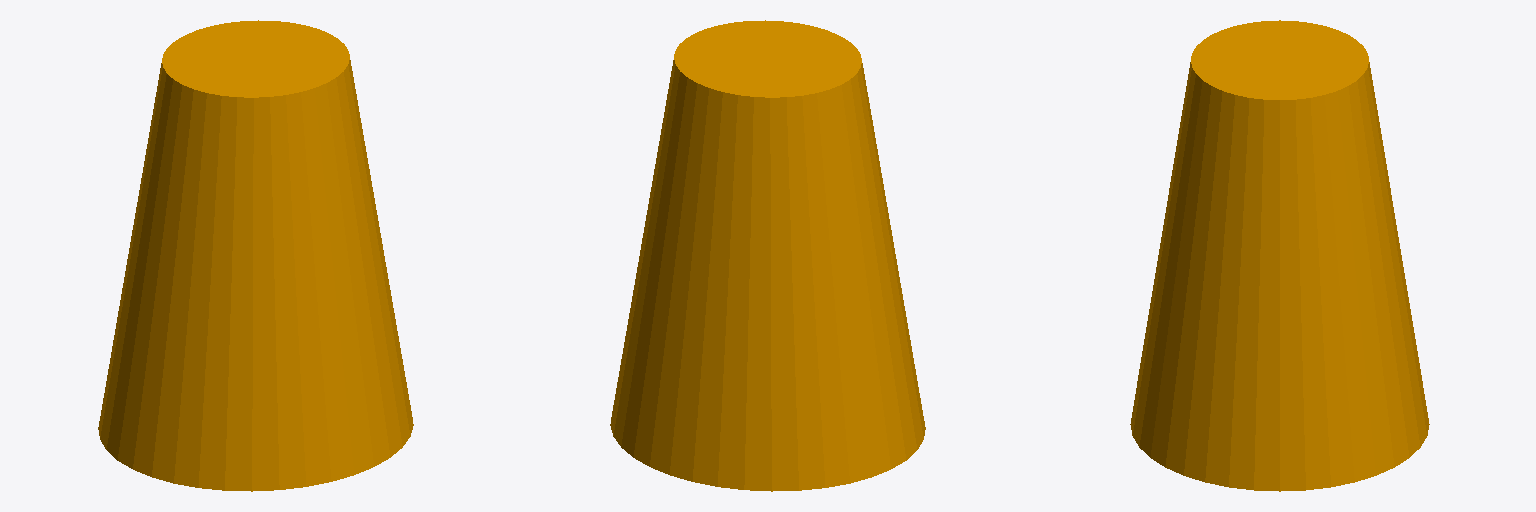
URDF robot description (model.urdf):
<?xml version="0.0" ?>
<robot name="model.urdf">
  <link name="baseLink">
    <contact>
      <friction_anchor/>
      <lateral_friction value="1.0"/>
      <spinning_friction value="0.03"/>
      <rolling_friction value="0.0"/>
      <contact_cfm value="0.1"/>
      <contact_erp value="1.0"/>
    </contact>
    <inertial>
       <origin rpy="0 0 0" xyz="0 0 0.0"/>
       <mass value=".100"/>
       <inertia ixx="1e-3" ixy="0" ixz="0" iyy="1e-3" iyz="0" izz="1e-3"/>
    </inertial>
    <visual>
      <geometry>
        <mesh filename="mesh.obj" scale="1 1 1"/>
      </geometry>
    </visual>
    <collision>
      <geometry>
    	 	<mesh filename="mesh.obj" scale="1 1 1"/>
      </geometry>
    </collision>
  </link>
</robot>

--- Facts derived from the render (not from the file) ---
The picture shows the robot from 3 angles, left to right: view 1: azimuth 30°, elevation 25°; view 2: azimuth 150°, elevation 25°; view 3: azimuth 270°, elevation 25°; orthographic projection.
Model model.urdf with 1 links and 0 joints (none), rooted at baseLink, posed every joint at zero.
Links seen in each view (by area): view 1: baseLink; view 2: baseLink; view 3: baseLink.
Boxes of the visible links, x1,y1,x2,y2 form: baseLink: [98, 20, 413, 491]; baseLink: [610, 20, 925, 491]; baseLink: [1130, 20, 1429, 491].
Bounding box of the posed robot: 0.0642 × 0.0607 × 0.0815 m (x, y, z).
Meshes: 1 distinct files referenced, 1 mesh visuals loaded (1 OBJ).